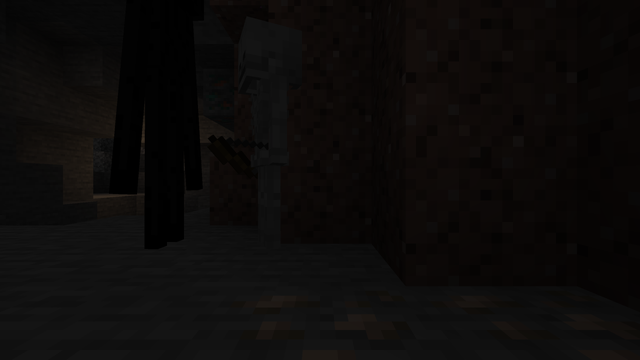endermens: (109, 9, 209, 251)
squelettes: (226, 19, 301, 251)
